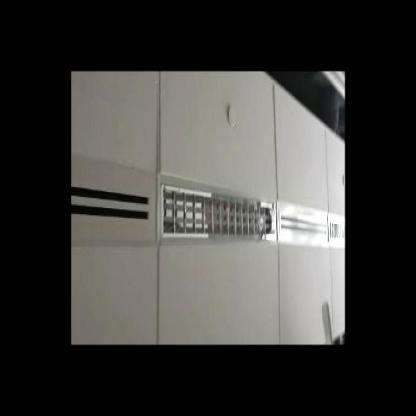light_off: (153, 166, 279, 258), (323, 206, 345, 256)
